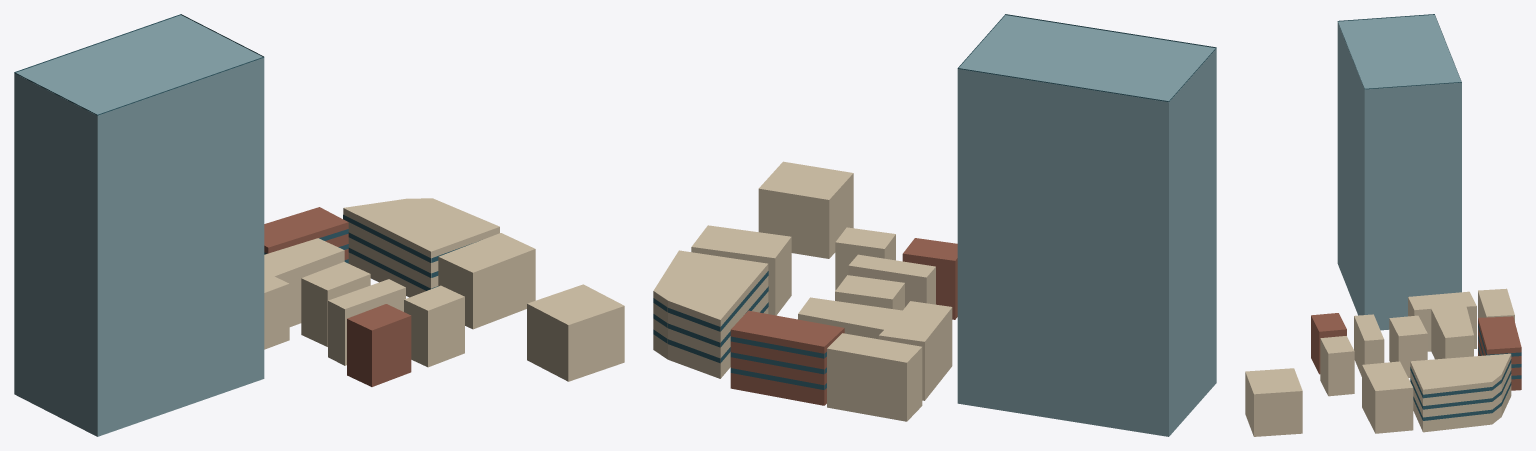
File: city_-3_-5.glb
The picture shows the model from 3 angles, left to right: view 1: azimuth 30°, elevation 25°; view 2: azimuth 150°, elevation 25°; view 3: azimuth 270°, elevation 25°; orthographic projection. The views are drawn at different scales.
Visible parts, largest first — view 1: city_-3_-5; view 2: city_-3_-5; view 3: city_-3_-5.
Part boxes in pixels (x1,y1,x2,y2): city_-3_-5: (14,14,624,436); city_-3_-5: (653,14,1216,436); city_-3_-5: (1245,14,1521,436).
Size of the model in its own units: 136 by 85.25 by 88.
